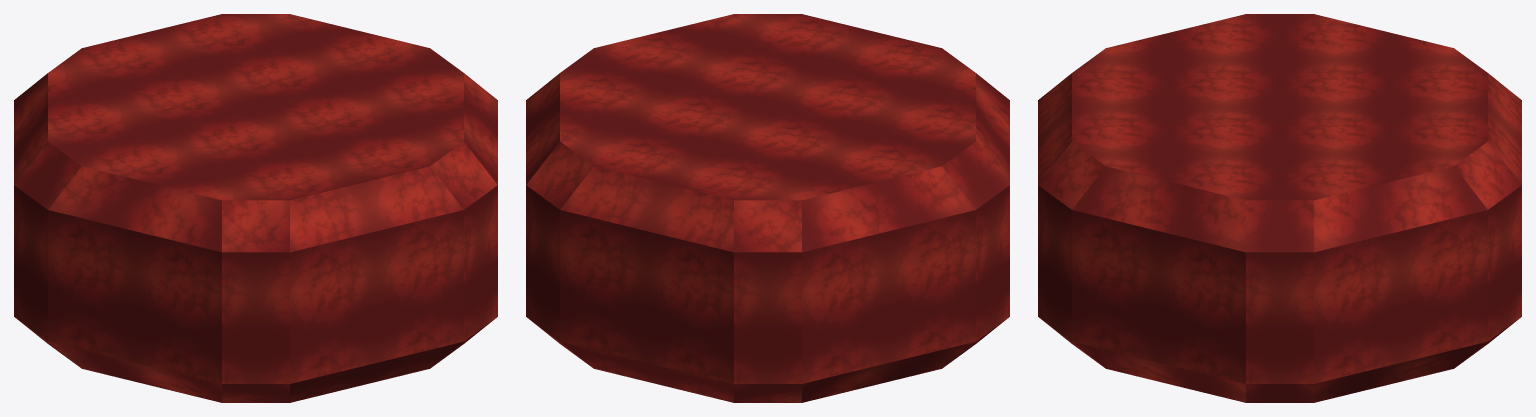
The model's file is Cell Variant B.fbx.
3 renders of one model, left to right at view 1: azimuth 30°, elevation 25°; view 2: azimuth 150°, elevation 25°; view 3: azimuth 270°, elevation 25°, orthographic.
Visible parts, largest first — view 1: Cell_Variant_B; view 2: Cell_Variant_B; view 3: Cell_Variant_B.
Part boxes in pixels (box(x1,y1,x2,y2)): Cell_Variant_B: box(14, 14, 497, 402); Cell_Variant_B: box(526, 14, 1009, 402); Cell_Variant_B: box(1038, 14, 1521, 402).
Size of the model in its own units: 465 by 200 by 433.
Materials: 1 (1 with a texture image).
